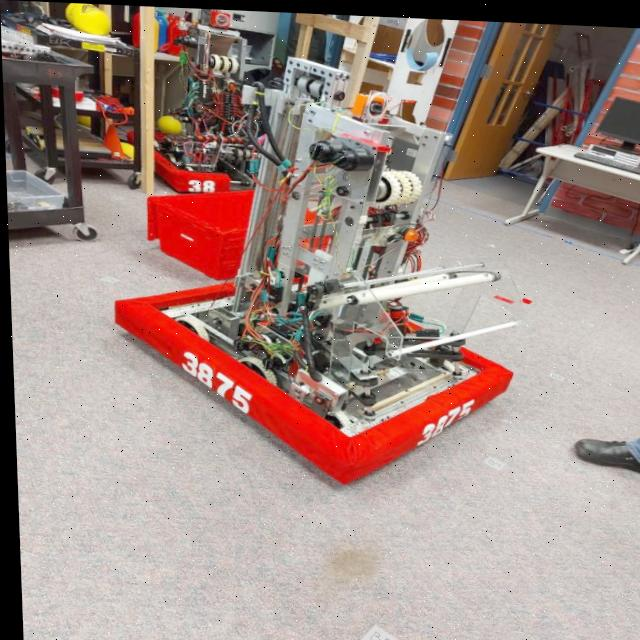robot: (94, 47, 515, 490), (136, 14, 305, 195)
